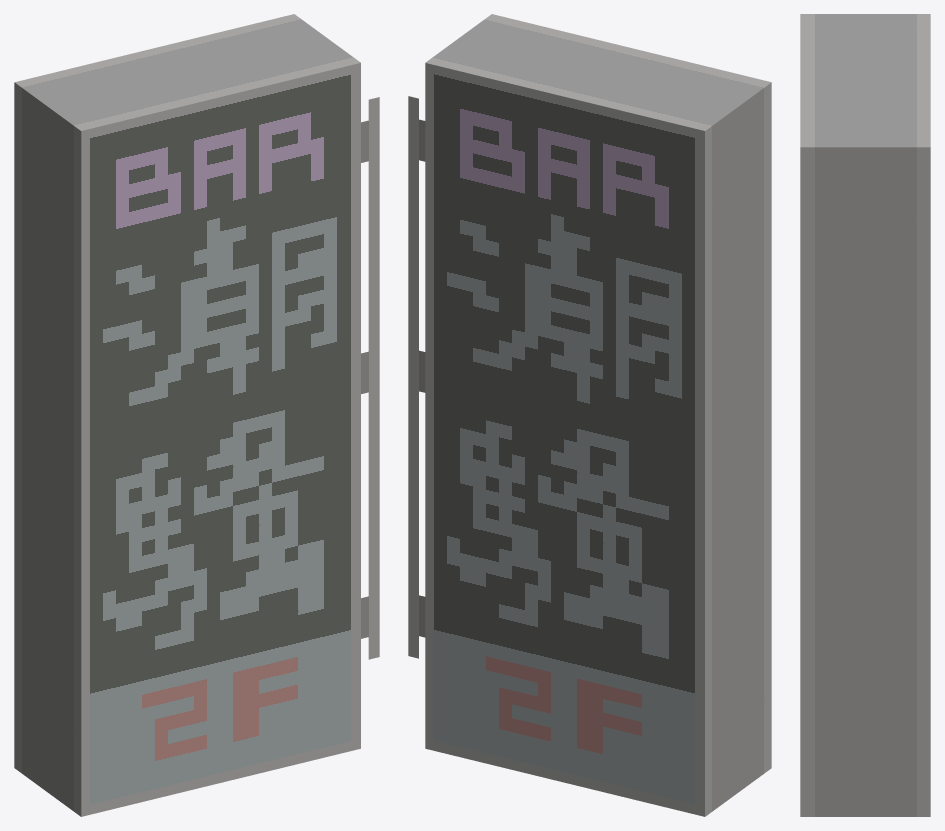
Rendered from 01a9_Shop_Sign.glb.
The picture shows the model from 3 angles, left to right: view 1: azimuth 30°, elevation 25°; view 2: azimuth 150°, elevation 25°; view 3: azimuth 270°, elevation 25°; orthographic projection. The views are drawn at different scales.
Parts seen in each view (by area): view 1: part_0; view 2: part_0; view 3: part_0.
Part boxes in pixels (x1,y1,x2,y2): part_0: (14,14,379,816); part_0: (408,14,771,816); part_0: (800,14,930,816).
Bounding box in the file's own units: 3.54 × 7.04 × 1.24.
Materials: 1 (1 with a texture image).
